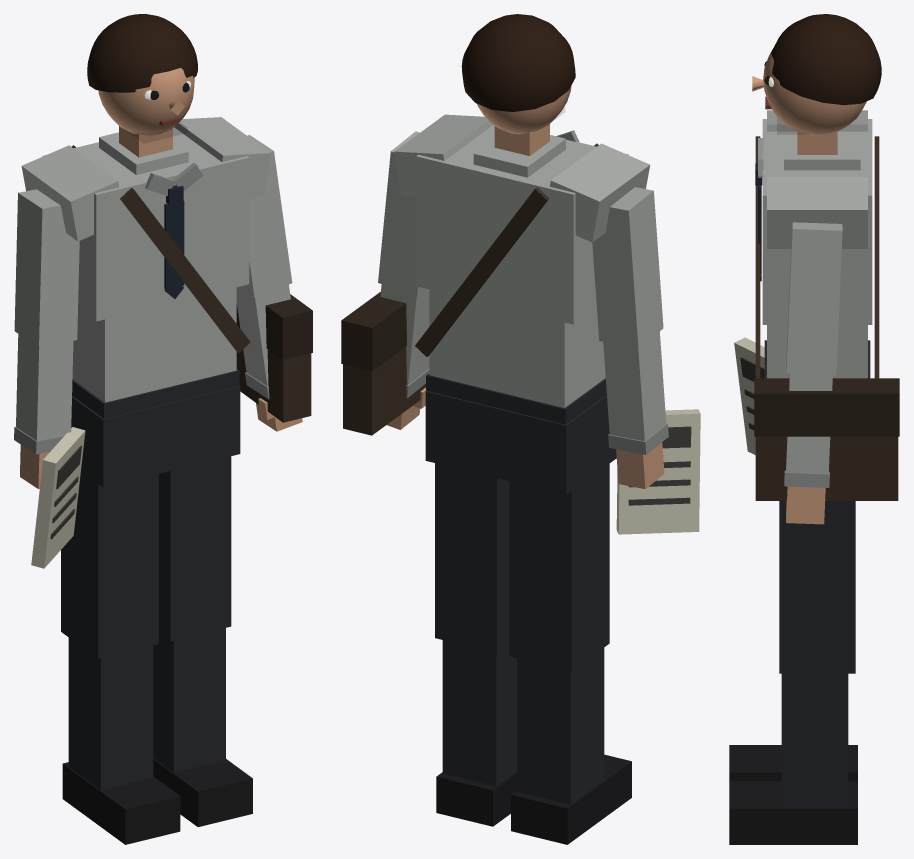
Rendered from passenger_office_standing.glb.
3 renders of one model, left to right at view 1: azimuth 30°, elevation 25°; view 2: azimuth 150°, elevation 25°; view 3: azimuth 270°, elevation 25°, orthographic. The views are drawn at different scales.
Visible parts, largest first — view 1: passenger_office_standing, Head, HabitProp_paper, Head_Skin, Body_Skin; view 2: passenger_office_standing, Head, HabitProp_paper, Body_Skin, Head_Skin; view 3: passenger_office_standing, Head, Head_Skin, Body_Skin, HabitProp_paper.
Boxes of the visible parts, bbox=[...] form: passenger_office_standing: bbox=[14, 117, 312, 844]; Head: bbox=[87, 14, 197, 142]; HabitProp_paper: bbox=[31, 427, 85, 568]; Head_Skin: bbox=[98, 68, 194, 136]; Body_Skin: bbox=[20, 126, 302, 489]; passenger_office_standing: bbox=[341, 114, 668, 844]; Head: bbox=[461, 14, 575, 116]; HabitProp_paper: bbox=[616, 409, 700, 534]; Body_Skin: bbox=[387, 124, 664, 488]; Head_Skin: bbox=[477, 86, 571, 134]; passenger_office_standing: bbox=[729, 110, 899, 844]; Head: bbox=[765, 14, 881, 133]; Head_Skin: bbox=[752, 49, 866, 135]; Body_Skin: bbox=[786, 131, 837, 524]; HabitProp_paper: bbox=[734, 337, 764, 454].
Size of the model in its own units: 0.7089 by 1.84 by 0.3575.
